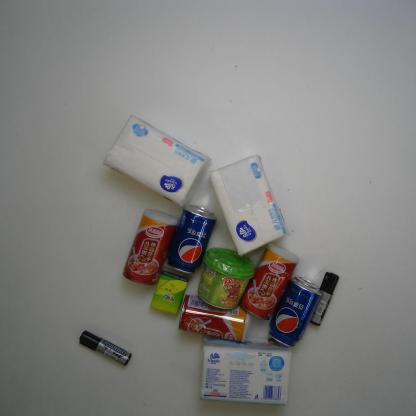Canned Food: (239, 236, 302, 321), (123, 207, 180, 288), (178, 294, 251, 343)
Drink: (266, 274, 324, 350), (163, 199, 219, 276)
Instant Drink: (194, 247, 258, 310)
Stationery: (76, 327, 132, 368), (310, 268, 340, 326)
Tissue: (102, 114, 214, 212), (208, 155, 294, 259), (196, 338, 297, 410), (148, 270, 192, 318)
